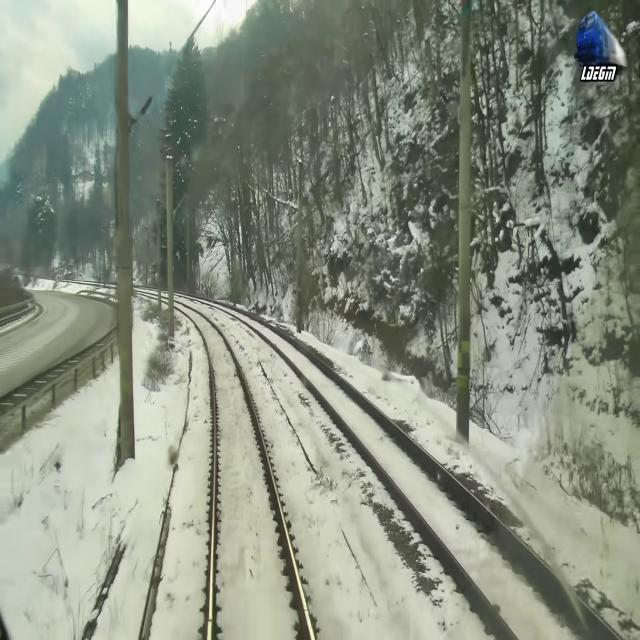rail-track: (231, 311, 618, 639), (181, 307, 310, 639)
